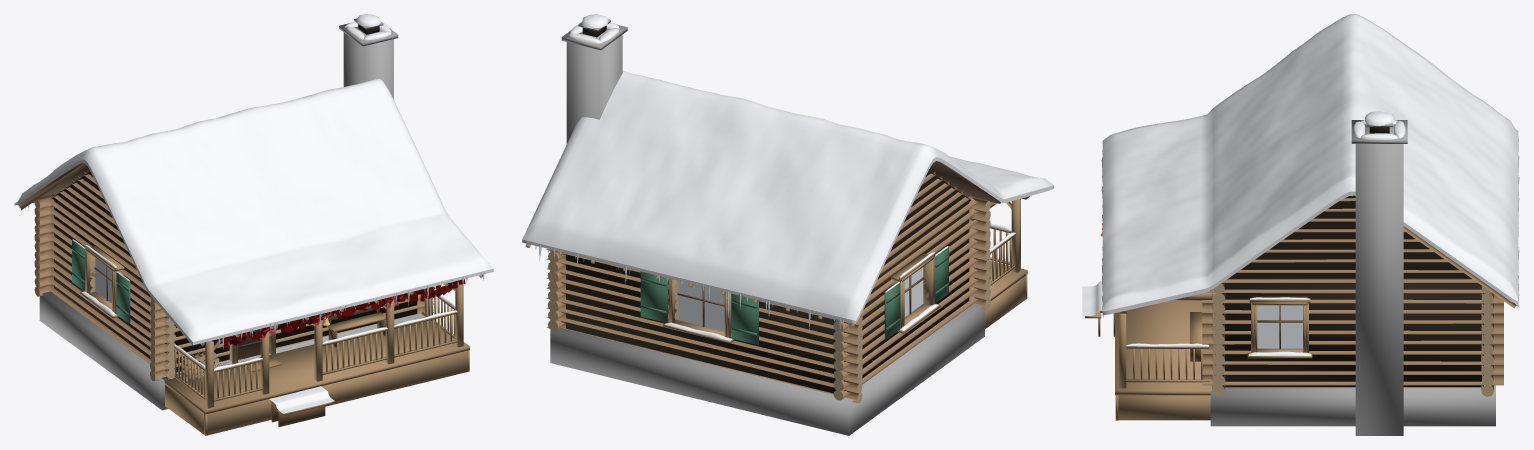
The model's file is cabin.glb.
3 views of the same model, side by side, from view 1: azimuth 30°, elevation 25°; view 2: azimuth 150°, elevation 25°; view 3: azimuth 270°, elevation 25° (orthographic). The views are drawn at different scales.
Visible parts, largest first — view 1: cabin; view 2: cabin; view 3: cabin.
Part boxes in pixels (box(x1,y1,x2,y2)): cabin: box(14, 14, 493, 435); cabin: box(522, 14, 1053, 435); cabin: box(1082, 14, 1519, 435).
Bounding box in the file's own units: 8.75 × 7.3 × 9.1.
